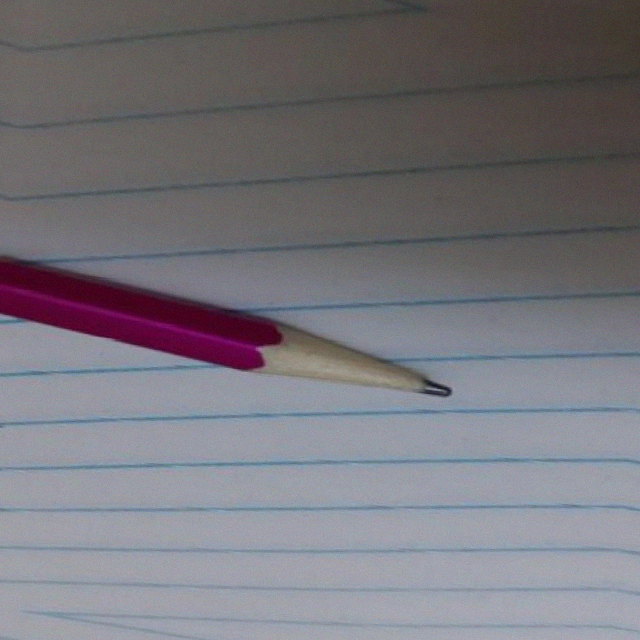pencil: (234, 329, 454, 410)
